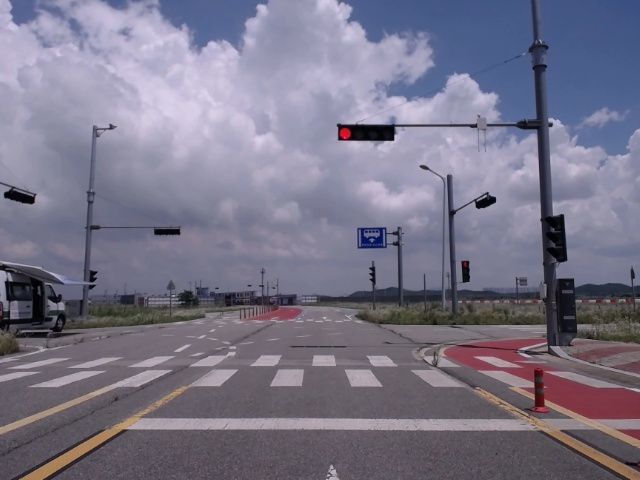red_4: (338, 127, 394, 141)
